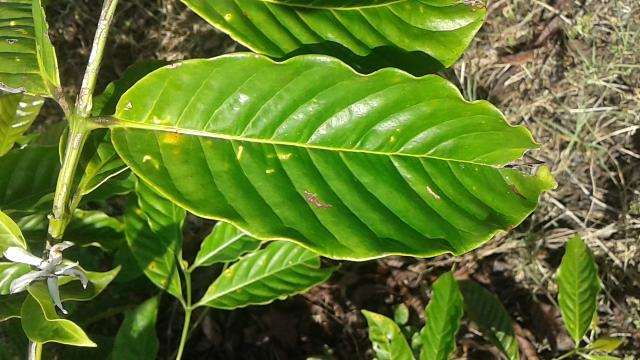rust_level_1: (107, 50, 566, 264)
